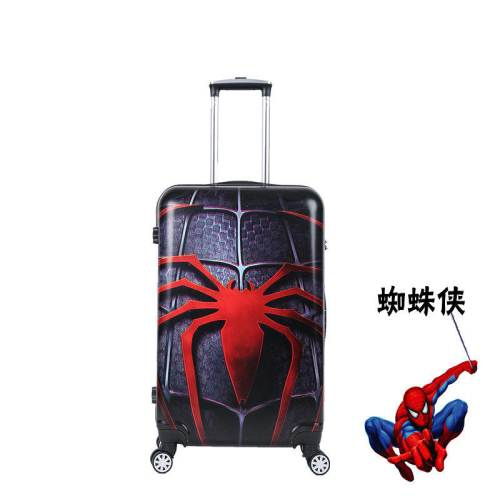luggage: (150, 75, 330, 476)
